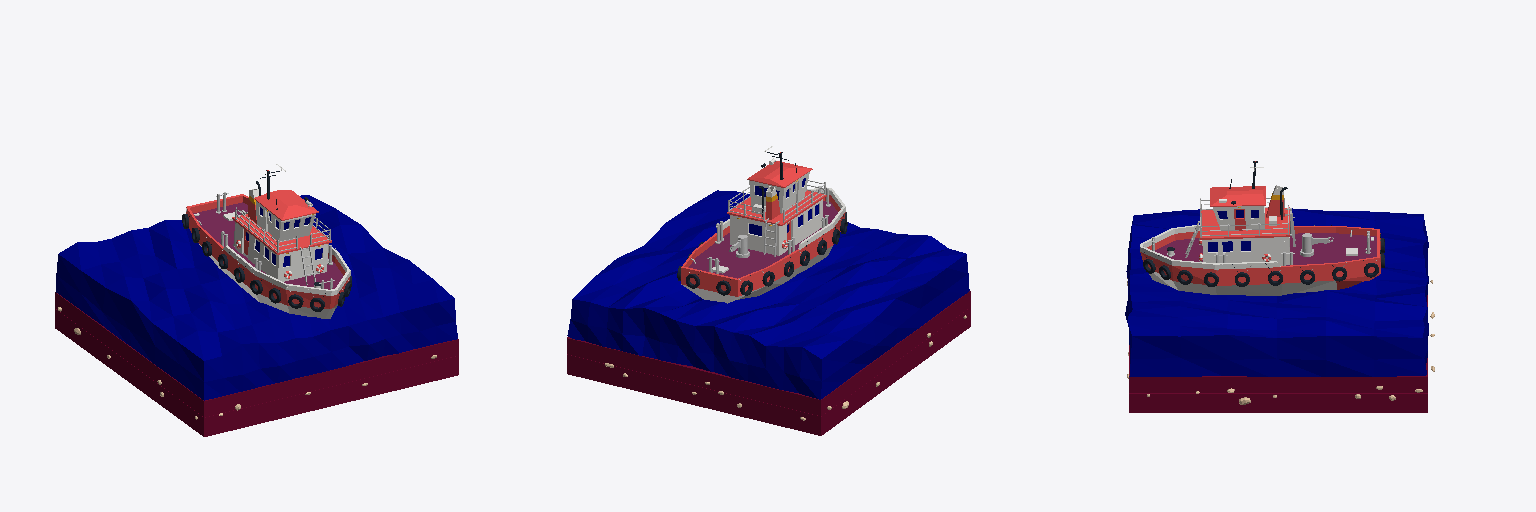
Rendered from Lowpoly_Tugboat.obj.
The picture shows the model from 3 angles: view 1: azimuth 30°, elevation 25°; view 2: azimuth 150°, elevation 25°; view 3: azimuth 270°, elevation 25°; orthographic projection.
Parts seen in each view (by area): view 1: Water, Cube_1, Body, Cube.1_1, Cube.2, Floor:1, Floor:2, Roof, Cube.2_2; view 2: Water, Cube_1, Body, Cube.1_1, Cube.2, Floor:1, Floor:2, Roof, Cube.2_2; view 3: Water, Body, Cube_1, Cube.1_1, Cube.2, Floor:1, Cube.2_2, Floor:2, Roof.
Boxes of the visible parts, x1=… form: Water: x1=56, y1=195, x2=457, y2=400; Cube_1: x1=55, y1=292, x2=458, y2=417; Body: x1=186, y1=194, x2=350, y2=318; Cube.1_1: x1=55, y1=309, x2=458, y2=429; Cube.2: x1=55, y1=321, x2=458, y2=436; Floor:1: x1=235, y1=223, x2=327, y2=281; Floor:2: x1=256, y1=201, x2=315, y2=241; Roof: x1=254, y1=190, x2=318, y2=220; Cube.2_2: x1=232, y1=214, x2=331, y2=254; Water: x1=567, y1=190, x2=969, y2=399; Cube_1: x1=567, y1=291, x2=970, y2=415; Body: x1=681, y1=187, x2=845, y2=303; Cube.1_1: x1=567, y1=307, x2=970, y2=428; Cube.2: x1=567, y1=319, x2=970, y2=435; Floor:1: x1=730, y1=199, x2=822, y2=255; Floor:2: x1=749, y1=172, x2=809, y2=213; Roof: x1=747, y1=161, x2=812, y2=187; Cube.2_2: x1=727, y1=190, x2=826, y2=225; Water: x1=1125, y1=208, x2=1428, y2=376; Body: x1=1140, y1=225, x2=1380, y2=295; Cube_1: x1=1129, y1=295, x2=1427, y2=392; Cube.1_1: x1=1129, y1=393, x2=1427, y2=405; Cube.2: x1=1129, y1=406, x2=1427, y2=412; Floor:1: x1=1202, y1=237, x2=1289, y2=265; Cube.2_2: x1=1200, y1=207, x2=1289, y2=239; Floor:2: x1=1213, y1=206, x2=1264, y2=230; Roof: x1=1210, y1=186, x2=1265, y2=206.
Bounding box in the file's own units: 1635 × 1136 × 1676.